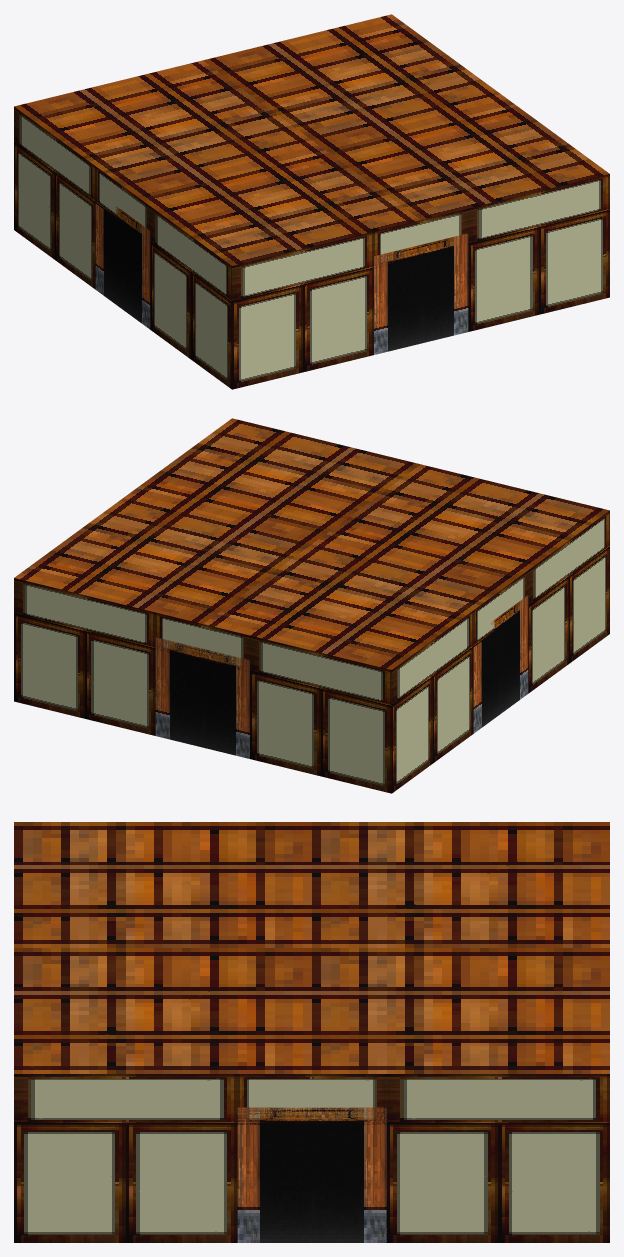
The model's file is test_room.dae.
3 renders of one model, top to bottom at view 1: azimuth 30°, elevation 25°; view 2: azimuth 150°, elevation 25°; view 3: azimuth 270°, elevation 25°, orthographic. The views are drawn at different scales.
Visible parts, largest first — view 1: Plane.006, Plane.018, Plane.001, Plane.014, Plane.007, Plane.015, Plane.009; view 2: Plane.006, Plane.018, Plane.002, Plane.014, Plane.003, Plane.015, Plane.005; view 3: Plane.006, Plane.018, Plane.010, Plane.011, Plane.013.
Boxes of the visible parts, box(x1,y1,x2,y2) form: Plane.006: box(14, 14, 609, 265); Plane.018: box(14, 107, 609, 389); Plane.001: box(388, 246, 453, 351); Plane.014: box(104, 209, 141, 323); Plane.007: box(374, 233, 468, 354); Plane.015: box(95, 203, 150, 329); Plane.009: box(388, 237, 453, 262); Plane.006: box(14, 418, 609, 669); Plane.018: box(14, 511, 609, 793); Plane.002: box(170, 650, 235, 755); Plane.014: box(482, 611, 519, 727); Plane.003: box(155, 637, 249, 758); Plane.015: box(473, 595, 528, 733); Plane.005: box(170, 641, 235, 666); Plane.006: box(14, 822, 609, 1073); Plane.018: box(14, 1074, 609, 1242); Plane.010: box(260, 1121, 363, 1242); Plane.011: box(237, 1107, 386, 1242); Plane.013: box(260, 1107, 363, 1121).
Bounding box in the file's own units: 16 × 16 × 5.
Materials: 8 (8 with a texture image).
